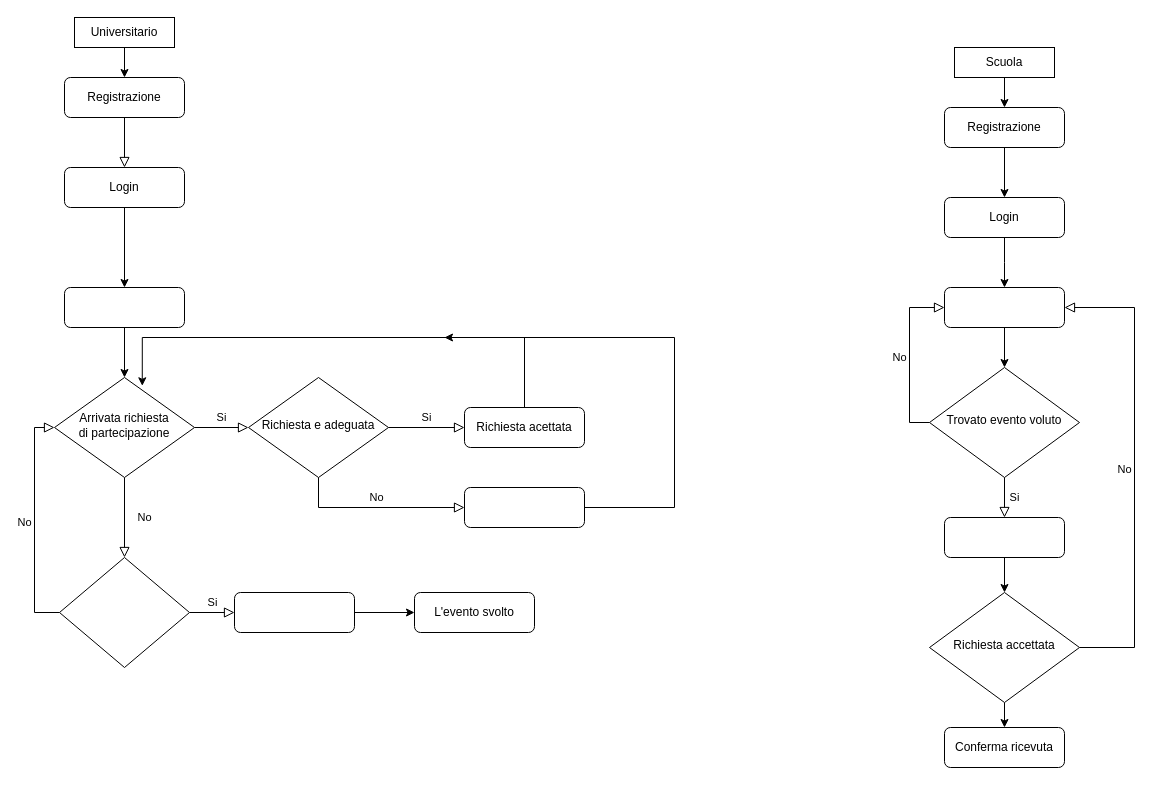
The diagram is 1162 pixels wide and 785 high, and some of its shapes have lost their labels. The centre of each missing label's shape, as x and y in pixels:
Creazione attivita: (124,307)
Invio della richiesta di partecipazione: (1004,537)
Prenotazione chiusa: (294,612)
Ricerca della attivita: (1004,307)
Richiesta rifiutata: (524,507)
Tempo per partecipazione e scaduto: (124,612)
